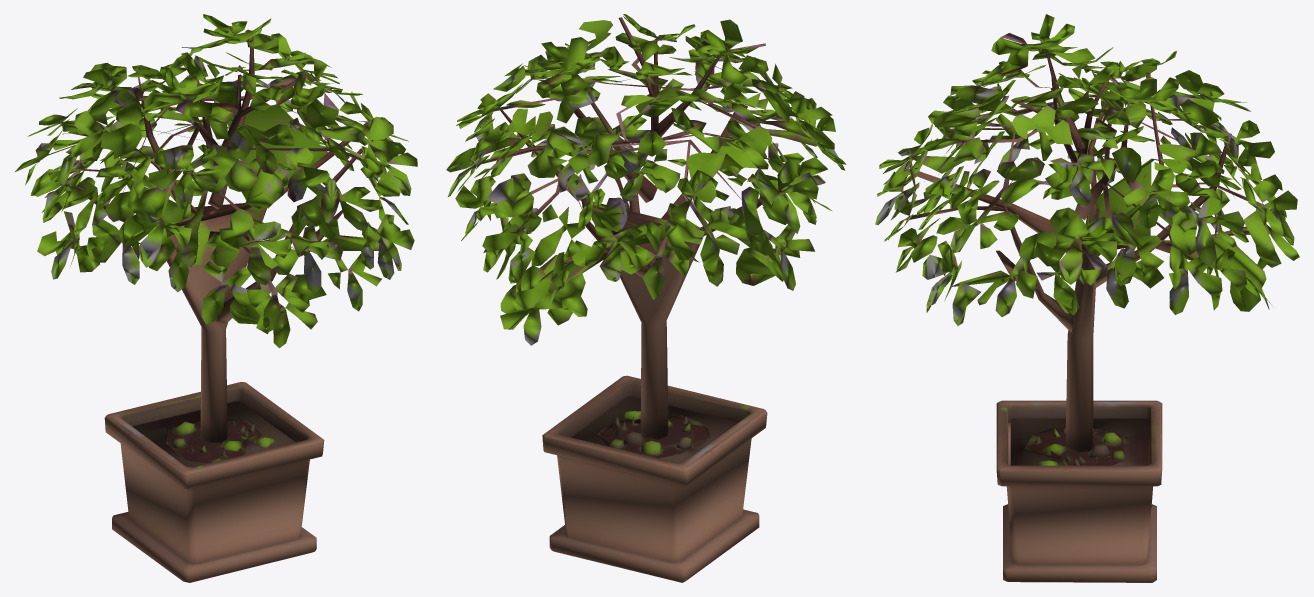
Rendered from tree.glb.
3 views of the same model, side by side, from view 1: azimuth 30°, elevation 25°; view 2: azimuth 150°, elevation 25°; view 3: azimuth 270°, elevation 25° (orthographic). The views are drawn at different scales.
Parts seen in each view (by area): view 1: tripo_node_d745b623-1887-45f5-a02e-b11162712fbe; view 2: tripo_node_d745b623-1887-45f5-a02e-b11162712fbe; view 3: tripo_node_d745b623-1887-45f5-a02e-b11162712fbe.
Boxes of the visible parts, <box> form: tripo_node_d745b623-1887-45f5-a02e-b11162712fbe: <box>15,14,417,582</box>; tripo_node_d745b623-1887-45f5-a02e-b11162712fbe: <box>446,14,846,582</box>; tripo_node_d745b623-1887-45f5-a02e-b11162712fbe: <box>875,14,1299,582</box>.
Size of the model in its own units: 2.5 by 3.5 by 2.71.
Materials: 1 (1 with a texture image).
